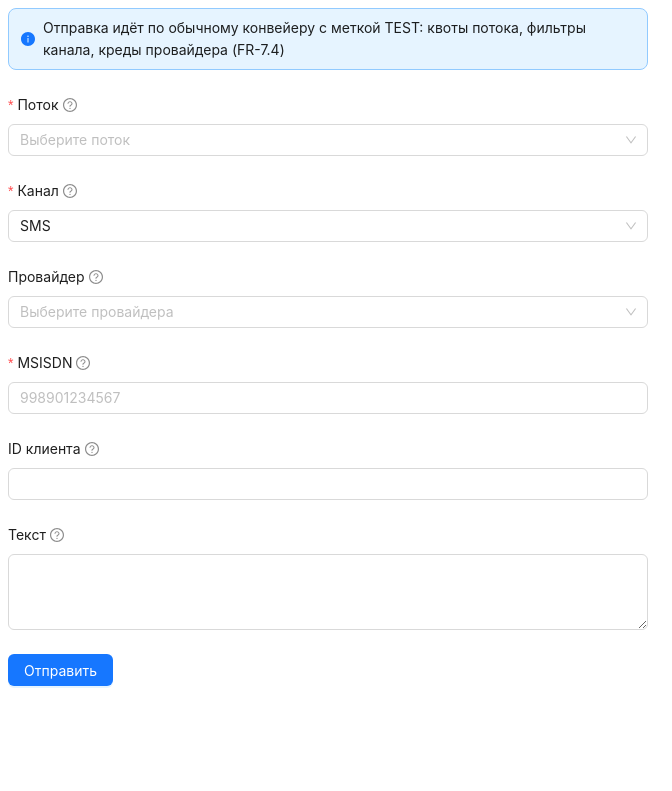
Test case: TestSendTab › asks for the address the chosen channel needs, and only that one
Expected: the field labelled "MSISDN" is shown, [8,382,648,414]
Expected: the field labelled "Email" is not shown
Click the dropdown labelled "Канал". click: (49, 191)
box: [8,180,91,202]
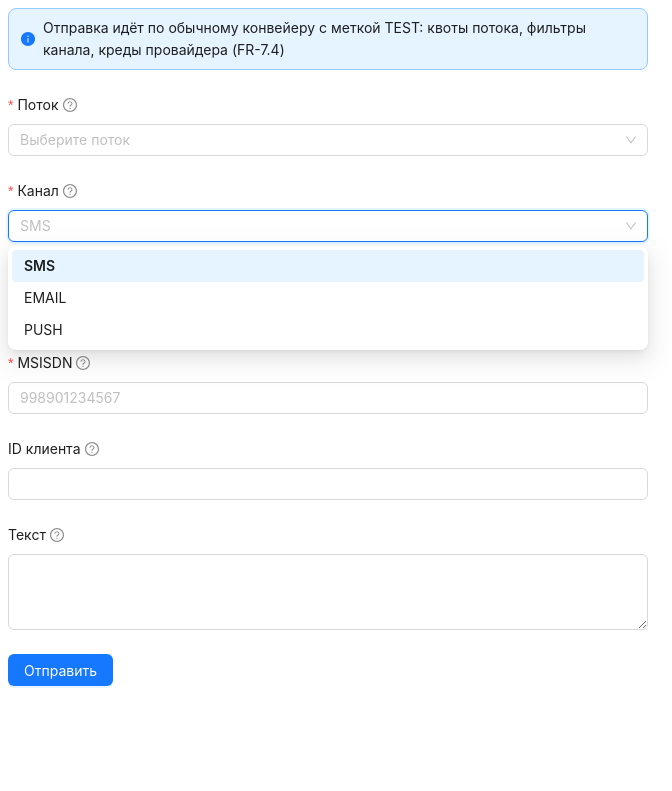
Click the element titled "EMAIL". click: (45, 298)
box: [24,289,66,306]
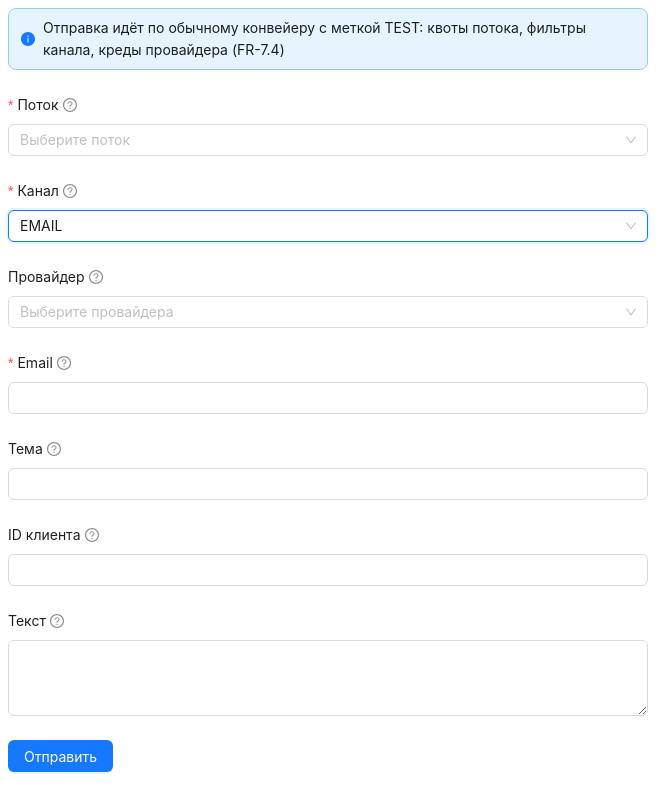
Expected: the field labelled "Email" is shown, [8,382,648,414]
Expected: the label labelled "MSISDN" is gone
